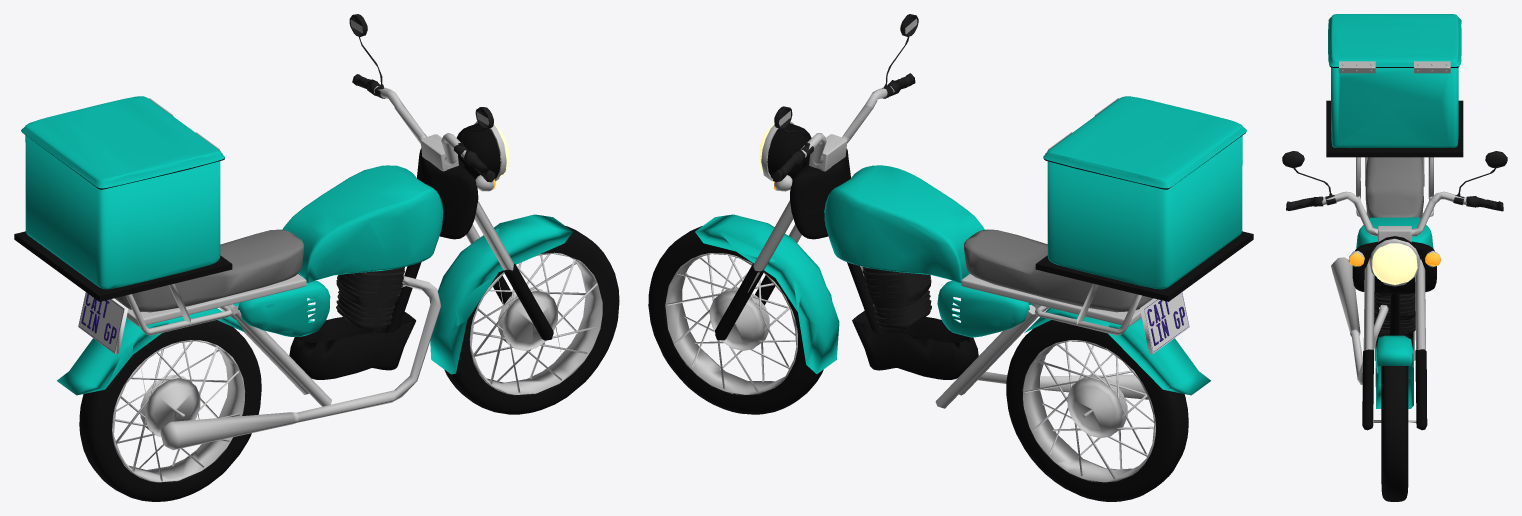
Rendered from sixty60.glb.
3 views of the same model, side by side, from view 1: azimuth 30°, elevation 25°; view 2: azimuth 150°, elevation 25°; view 3: azimuth 270°, elevation 25° (orthographic). The views are drawn at different scales.
Parts seen in each view (by area): view 1: Box, Fuel Tank, Lid, Back Tyre, Front Fender, Front Tyre, Seat, Front Rim, Exhaust Pipe, Cube, Back Rim, Exhaust Muffler (+18 smaller); view 2: Box, Fuel Tank, Lid, Back Tyre, Front Fender, Front Tyre, Seat, Back Rim, Front Rim, Cube, Back Fender, Exhaust Muffler (+18 smaller); view 3: Box, Lid, Front Tyre, Seat, Exhaust Pipe, Support, Pipe 5, Pipe 2, Front Fender, Controls, Front Light, Engine Block (+11 smaller).
Part boxes in pixels (left/top/right/bottom): Box: left=25, top=135, right=220, bottom=289; Fuel Tank: left=282, top=165, right=443, bottom=282; Lid: left=21, top=96, right=224, bottom=189; Back Tyre: left=79, top=320, right=261, bottom=501; Front Fender: left=430, top=214, right=572, bottom=374; Front Tyre: left=444, top=226, right=619, bottom=414; Seat: left=114, top=229, right=303, bottom=312; Front Rim: left=469, top=252, right=602, bottom=395; Exhaust Pipe: left=160, top=276, right=441, bottom=450; Cube: left=289, top=312, right=415, bottom=379; Back Rim: left=112, top=340, right=245, bottom=482; Exhaust Muffler: left=233, top=273, right=330, bottom=336; Box: left=1047, top=136, right=1242, bottom=289; Fuel Tank: left=824, top=165, right=984, bottom=282; Lid: left=1043, top=96, right=1246, bottom=189; Back Tyre: left=1006, top=320, right=1188, bottom=501; Front Fender: left=695, top=214, right=839, bottom=373; Front Tyre: left=648, top=226, right=823, bottom=414; Seat: left=964, top=229, right=1152, bottom=312; Back Rim: left=1022, top=340, right=1155, bottom=482; Front Rim: left=665, top=253, right=797, bottom=394; Cube: left=852, top=310, right=978, bottom=379; Back Fender: left=1024, top=308, right=1210, bottom=395; Exhaust Muffler: left=937, top=273, right=1033, bottom=337; Box: left=1331, top=67, right=1458, bottom=147; Lid: left=1328, top=14, right=1461, bottom=67; Front Tyre: left=1381, top=366, right=1408, bottom=501; Seat: left=1365, top=157, right=1423, bottom=218; Exhaust Pipe: left=1331, top=257, right=1388, bottom=384; Support: left=1326, top=100, right=1463, bottom=157; Pipe 5: left=1362, top=349, right=1427, bottom=430; Pipe 2: left=1363, top=258, right=1425, bottom=350; Front Fender: left=1375, top=335, right=1413, bottom=408; Controls: left=1352, top=241, right=1436, bottom=293; Front Light: left=1372, top=243, right=1417, bottom=284; Engine Block: left=1374, top=293, right=1415, bottom=333.
Bounding box in the file's own units: 4.04 × 2.59 × 1.76.
